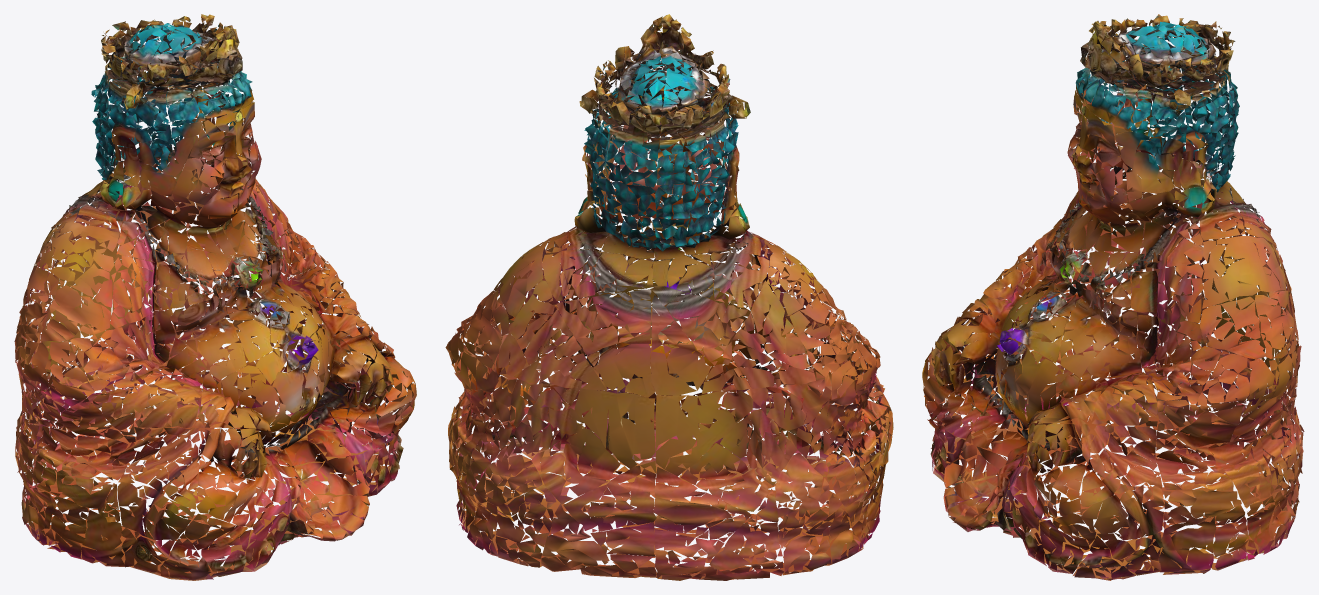
3 renders of one model, left to right at view 1: azimuth 30°, elevation 25°; view 2: azimuth 150°, elevation 25°; view 3: azimuth 270°, elevation 25°, orthographic. The views are drawn at different scales.
Visible parts, largest first — view 1: statue-039; view 2: statue-039; view 3: statue-039.
Boxes of the visible parts, x1=… form: statue-039: x1=14, y1=14, x2=416, y2=580; statue-039: x1=445, y1=14, x2=893, y2=580; statue-039: x1=922, y1=14, x2=1304, y2=580.
Bounding box in the file's own units: 0.8293 × 1 × 0.7226.
1 material, 1 textured.
